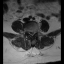CCS_severe_stenosis: (31, 30, 32, 38)
LFS_severe_stenosis: (34, 28, 37, 35)
LLS_normal: (32, 29, 34, 36)
RFS_severe_stenosis: (26, 29, 28, 35)
RLS_stenosis: (28, 29, 30, 36)
